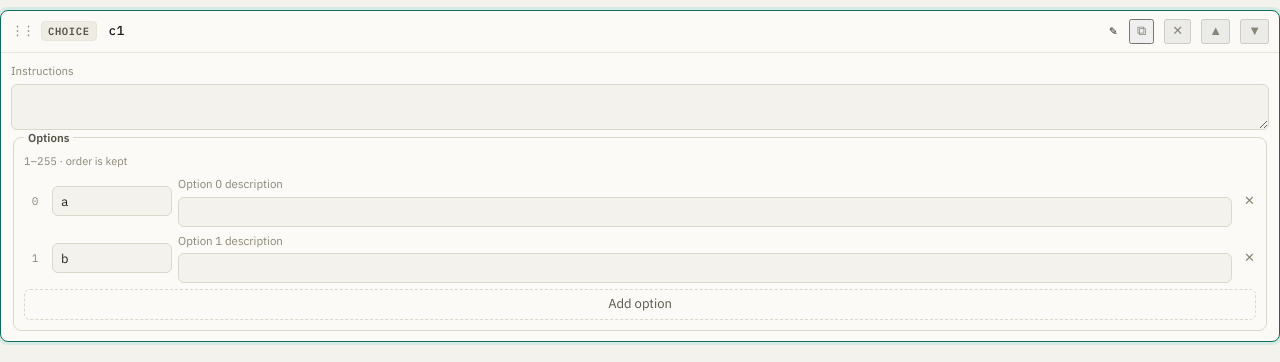
Test case: ChoiceForm › Escape reverts the local key edit
Replace the text in the field named "Option 0 key" with "zzz" at (112, 202), box [52,186,172,216]
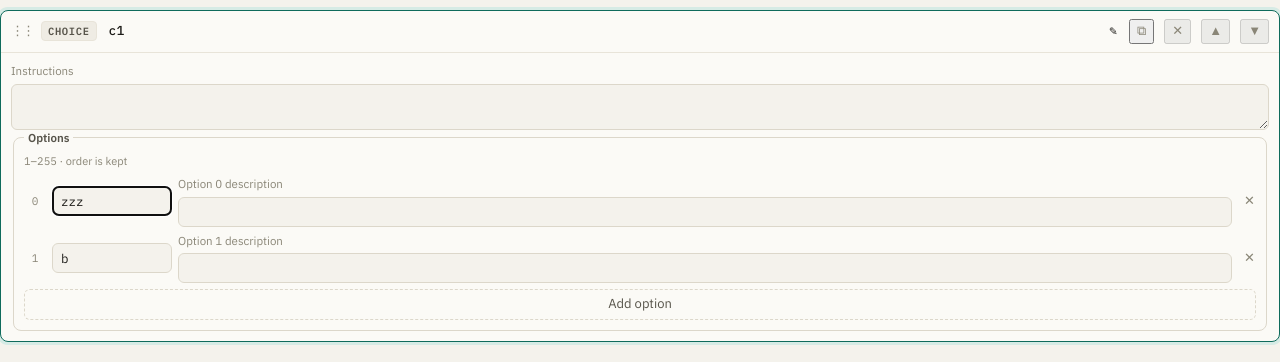
Press Escape
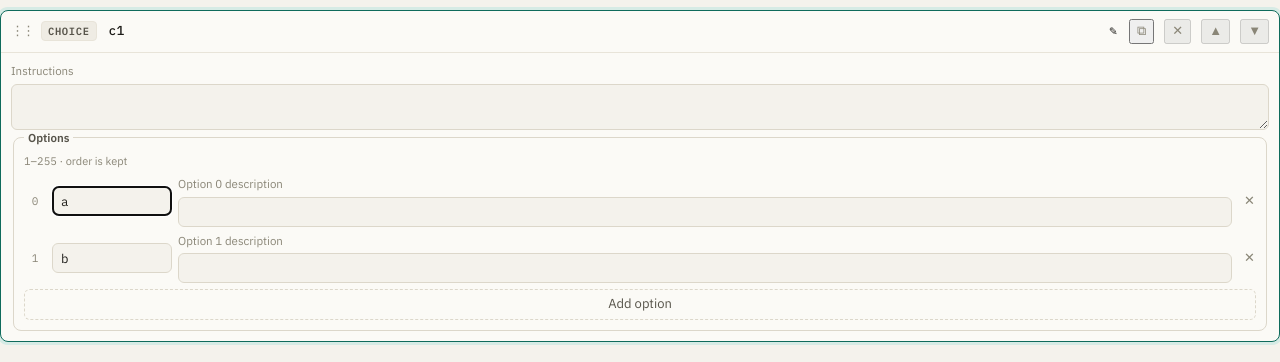
Check: the field named "Option 0 key" holds "a", box [52,186,172,216]
